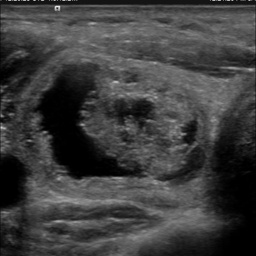mass: (21, 53, 210, 193)
